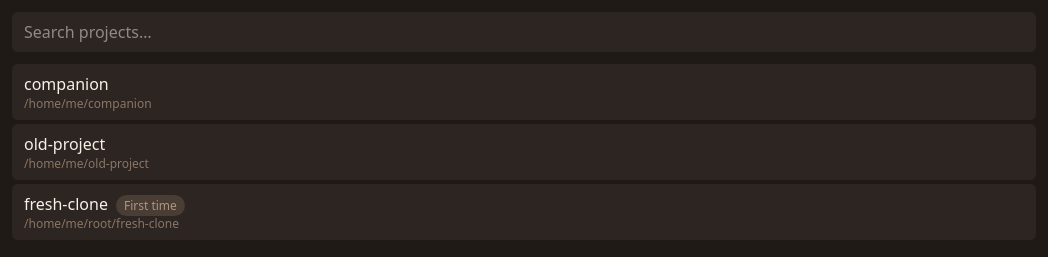
ProjectPicker › filters as you type, matching displayName case-insensitively
The width and height of the screenshot is (1048, 257).
Step 1. Type "FRESH" into the search field → (524, 32), box 12,12 -> 1036,52
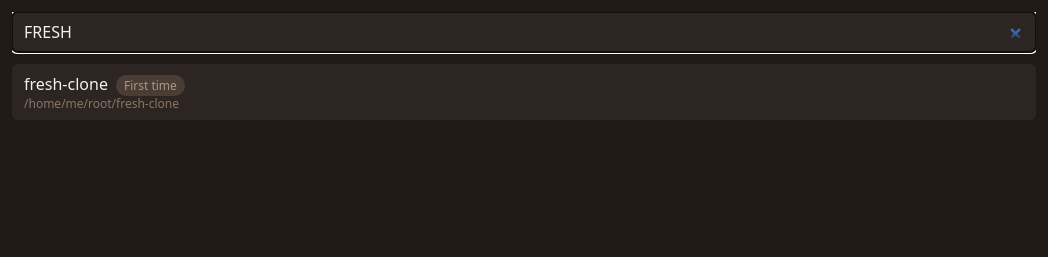
Check: the button "fresh-clone" is shown, box 12,64 -> 1036,120
Check: the button "companion" is gone
